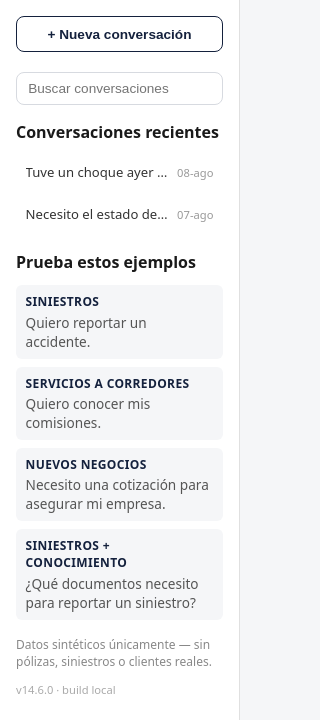
Sidebar › filters the conversation list by the search box
Type "comisiones" into the search field labelled "Buscar conversaciones".
click(120, 89); type("comisiones")  # box [16, 72, 223, 105]
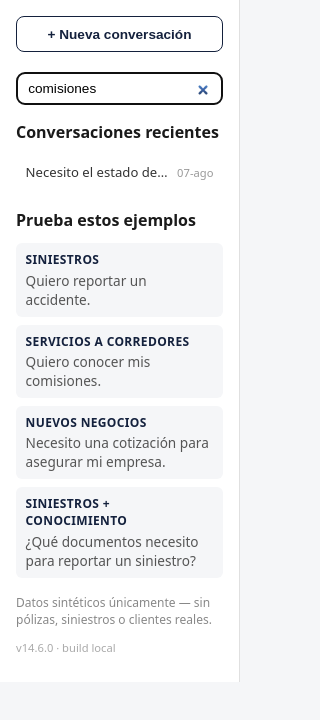
Expected: the button "Tuve un choque ayer en la tarde." is gone
